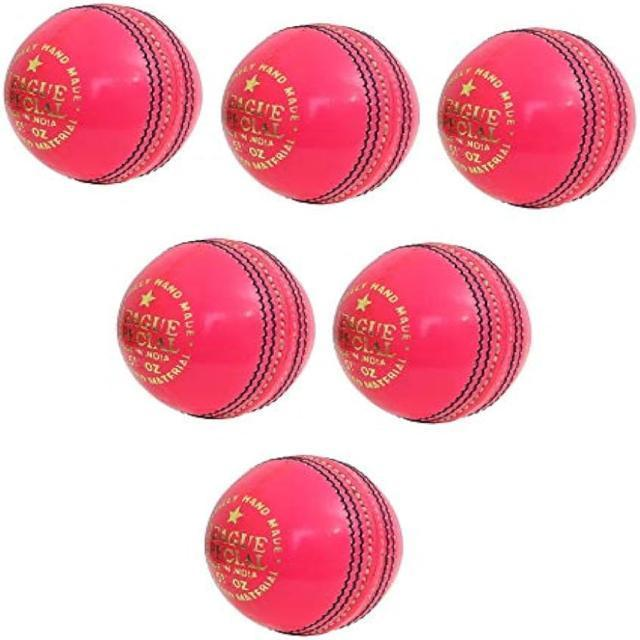cricket ball: (204, 454, 405, 638), (331, 242, 532, 425), (220, 23, 420, 206), (438, 27, 637, 209), (3, 4, 202, 185), (117, 238, 316, 419)
